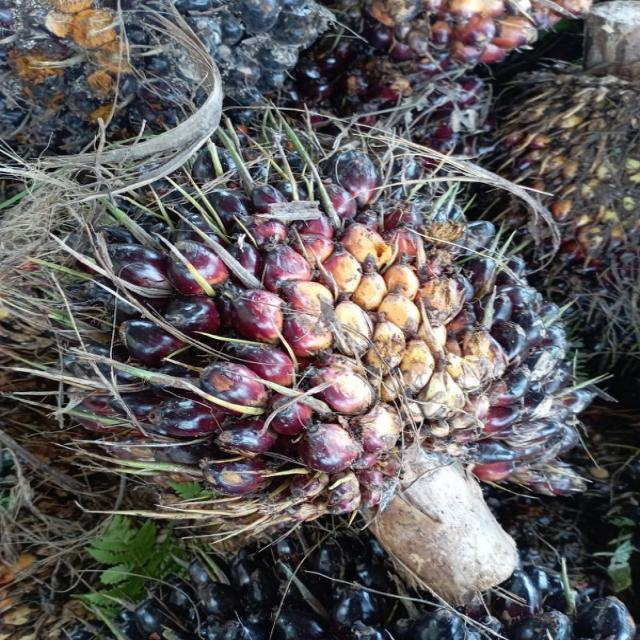fraksi 1: (19, 104, 595, 615)
